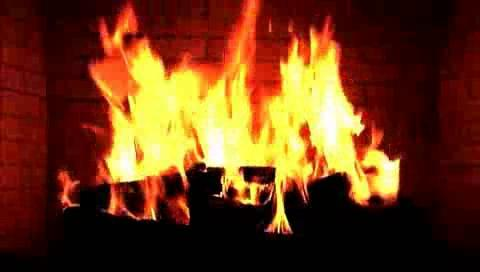fire: (77, 10, 382, 215)
